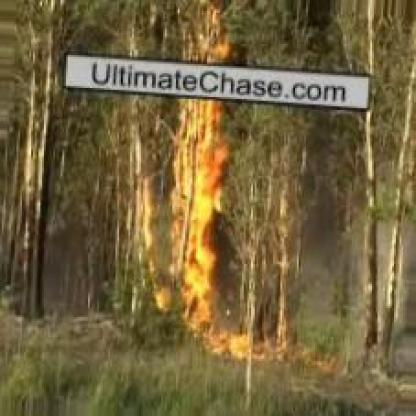fire: (164, 7, 258, 357)
